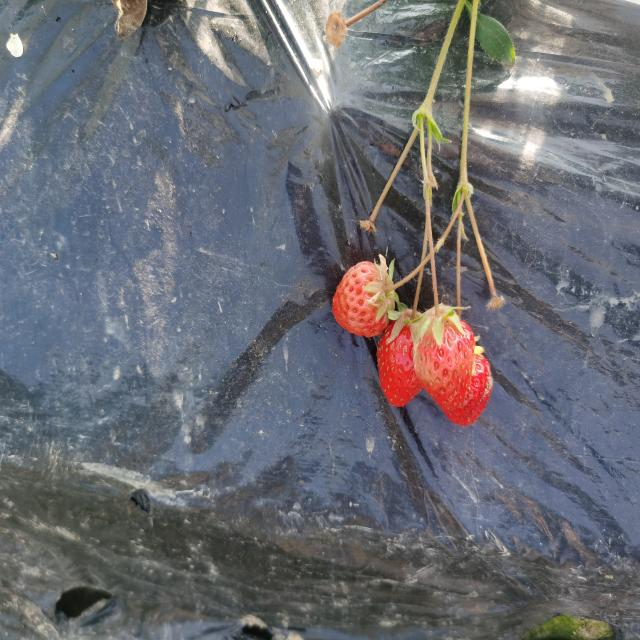stem: (384, 268, 419, 294), (409, 280, 421, 321), (432, 274, 440, 318)
strawberry: (414, 305, 475, 411), (332, 261, 395, 337), (377, 310, 422, 408), (443, 349, 493, 426)
